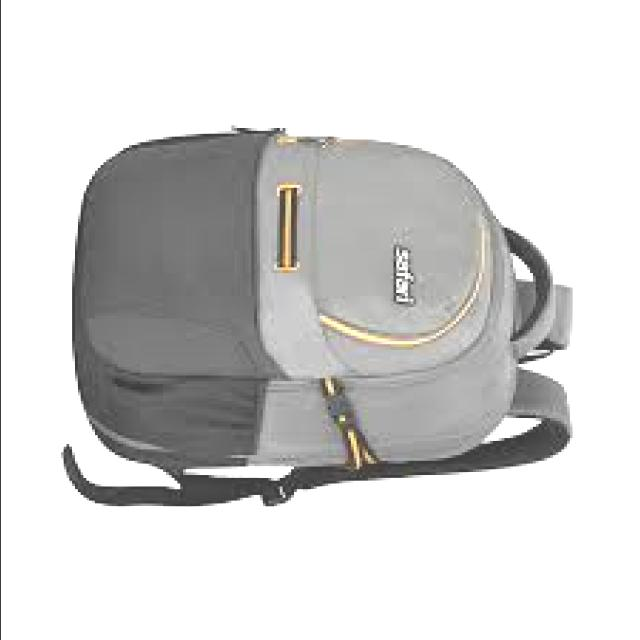backpack: (64, 123, 579, 510)
